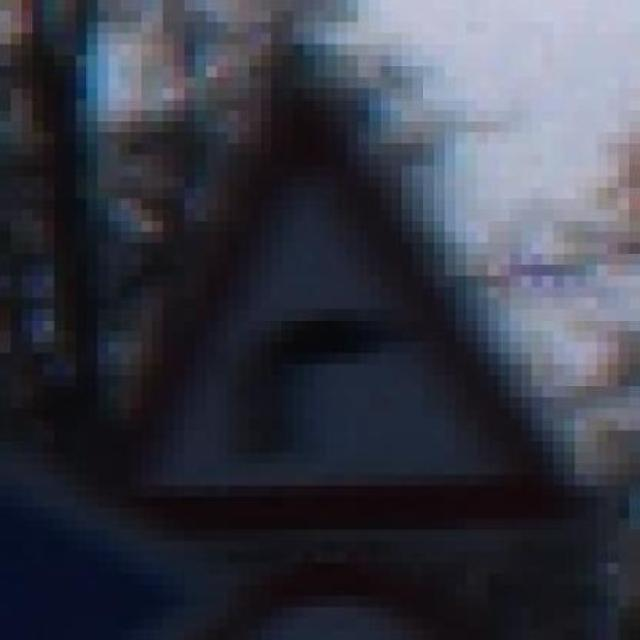Dangerous Rright Curve Ahead: (87, 44, 576, 562)
